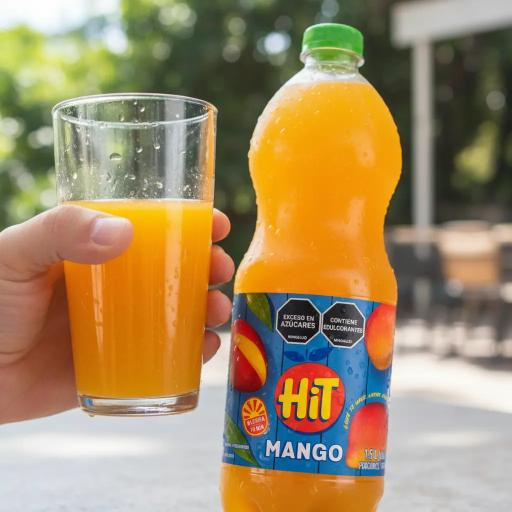JugoHM: (224, 22, 410, 512)
